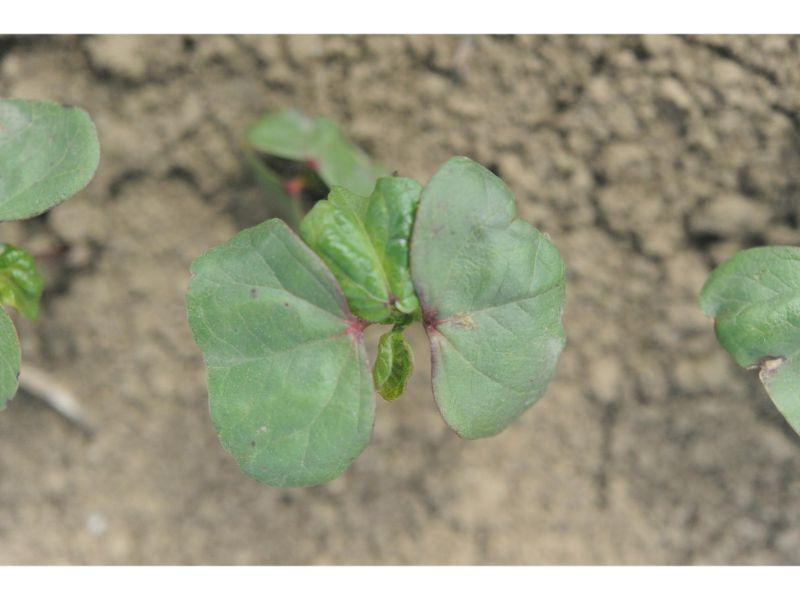cotton: (184, 149, 572, 495)
